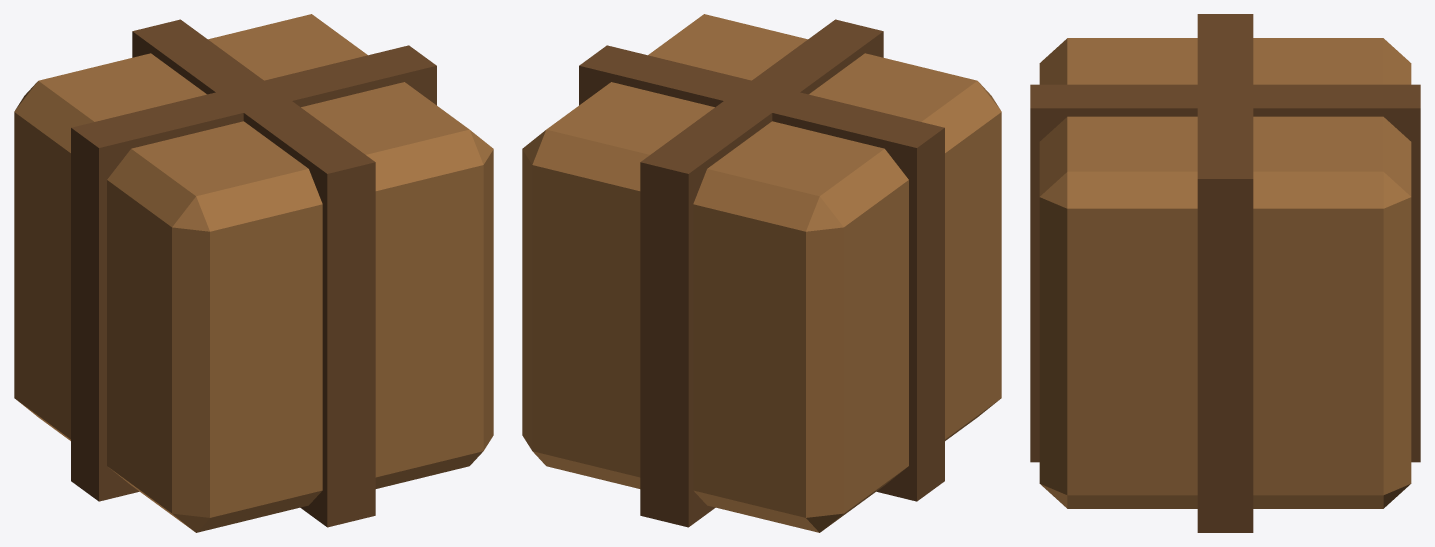
The model's file is crate.glb.
3 renders of one model, left to right at view 1: azimuth 30°, elevation 25°; view 2: azimuth 150°, elevation 25°; view 3: azimuth 270°, elevation 25°, orthographic.
Visible parts, largest first — view 1: crate; view 2: crate; view 3: crate.
Boxes of the visible parts, box(x1,y1,x2,y2) form: crate: box(14, 14, 493, 532); crate: box(522, 14, 1001, 532); crate: box(1030, 14, 1420, 532).
Size of the model in its own units: 0.42 by 0.42 by 0.42.
1 material, 1 textured.
